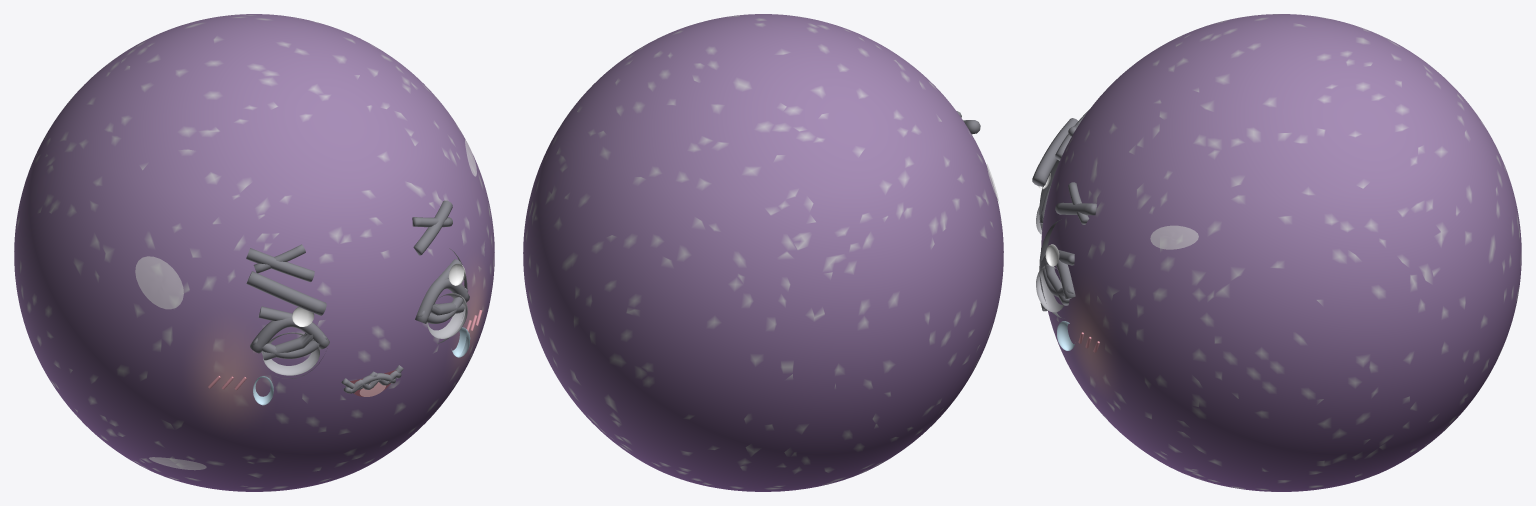
The model's file is v_ball_slime.glb.
The picture shows the model from 3 angles, left to right: view 1: azimuth 30°, elevation 25°; view 2: azimuth 150°, elevation 25°; view 3: azimuth 270°, elevation 25°; orthographic projection.
Visible parts, largest first — view 1: BodyMesh, face_eyes_normal, face_eyes_happy, face_brows_angry, face_eyes_strain, face_brow_smug, face_eyes_closed, face_brows_sad, face_tears; view 2: BodyMesh; view 3: BodyMesh, face_eyes_normal, face_brow_smug, face_brows_angry, face_eyes_happy, face_eyes_strain.
Boxes of the visible parts, box(x1,y1,x2,y2) form: BodyMesh: box(14, 14, 494, 491); face_eyes_normal: box(263, 248, 467, 378); face_eyes_happy: box(250, 279, 469, 353); face_brows_angry: box(246, 200, 452, 282); face_eyes_strain: box(258, 259, 464, 360); face_brow_smug: box(246, 271, 326, 315); face_eyes_closed: box(251, 288, 468, 358); face_brows_sad: box(253, 217, 452, 273); face_tears: box(253, 327, 470, 405); BodyMesh: box(523, 14, 1003, 491); BodyMesh: box(1041, 14, 1521, 491); face_eyes_normal: box(1036, 160, 1064, 318); face_brow_smug: box(1032, 118, 1077, 186); face_brows_angry: box(1055, 109, 1096, 215); face_eyes_happy: box(1039, 182, 1075, 299); face_eyes_strain: box(1044, 185, 1074, 305).
Bounding box in the file's own units: 1.6 × 1.55 × 1.63.
